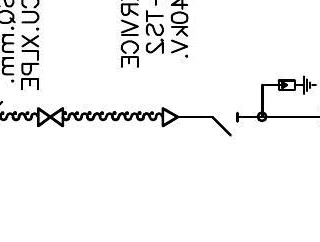terminator_single: (160, 106, 180, 128)
terminator_splicing_kits: (37, 106, 65, 128)
